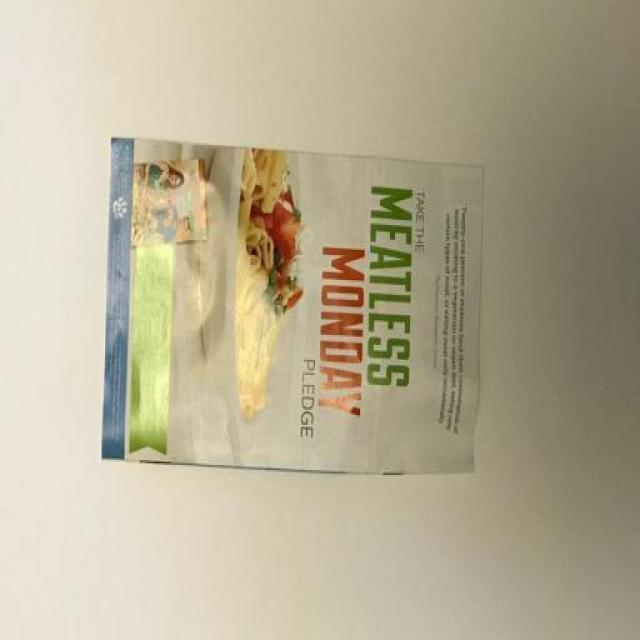paper: (69, 105, 519, 525)
